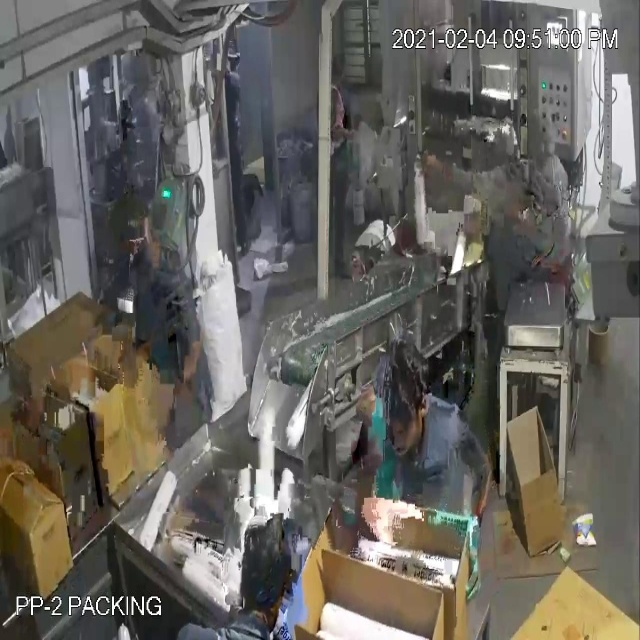Sin_guantes: (162, 313, 202, 431)
